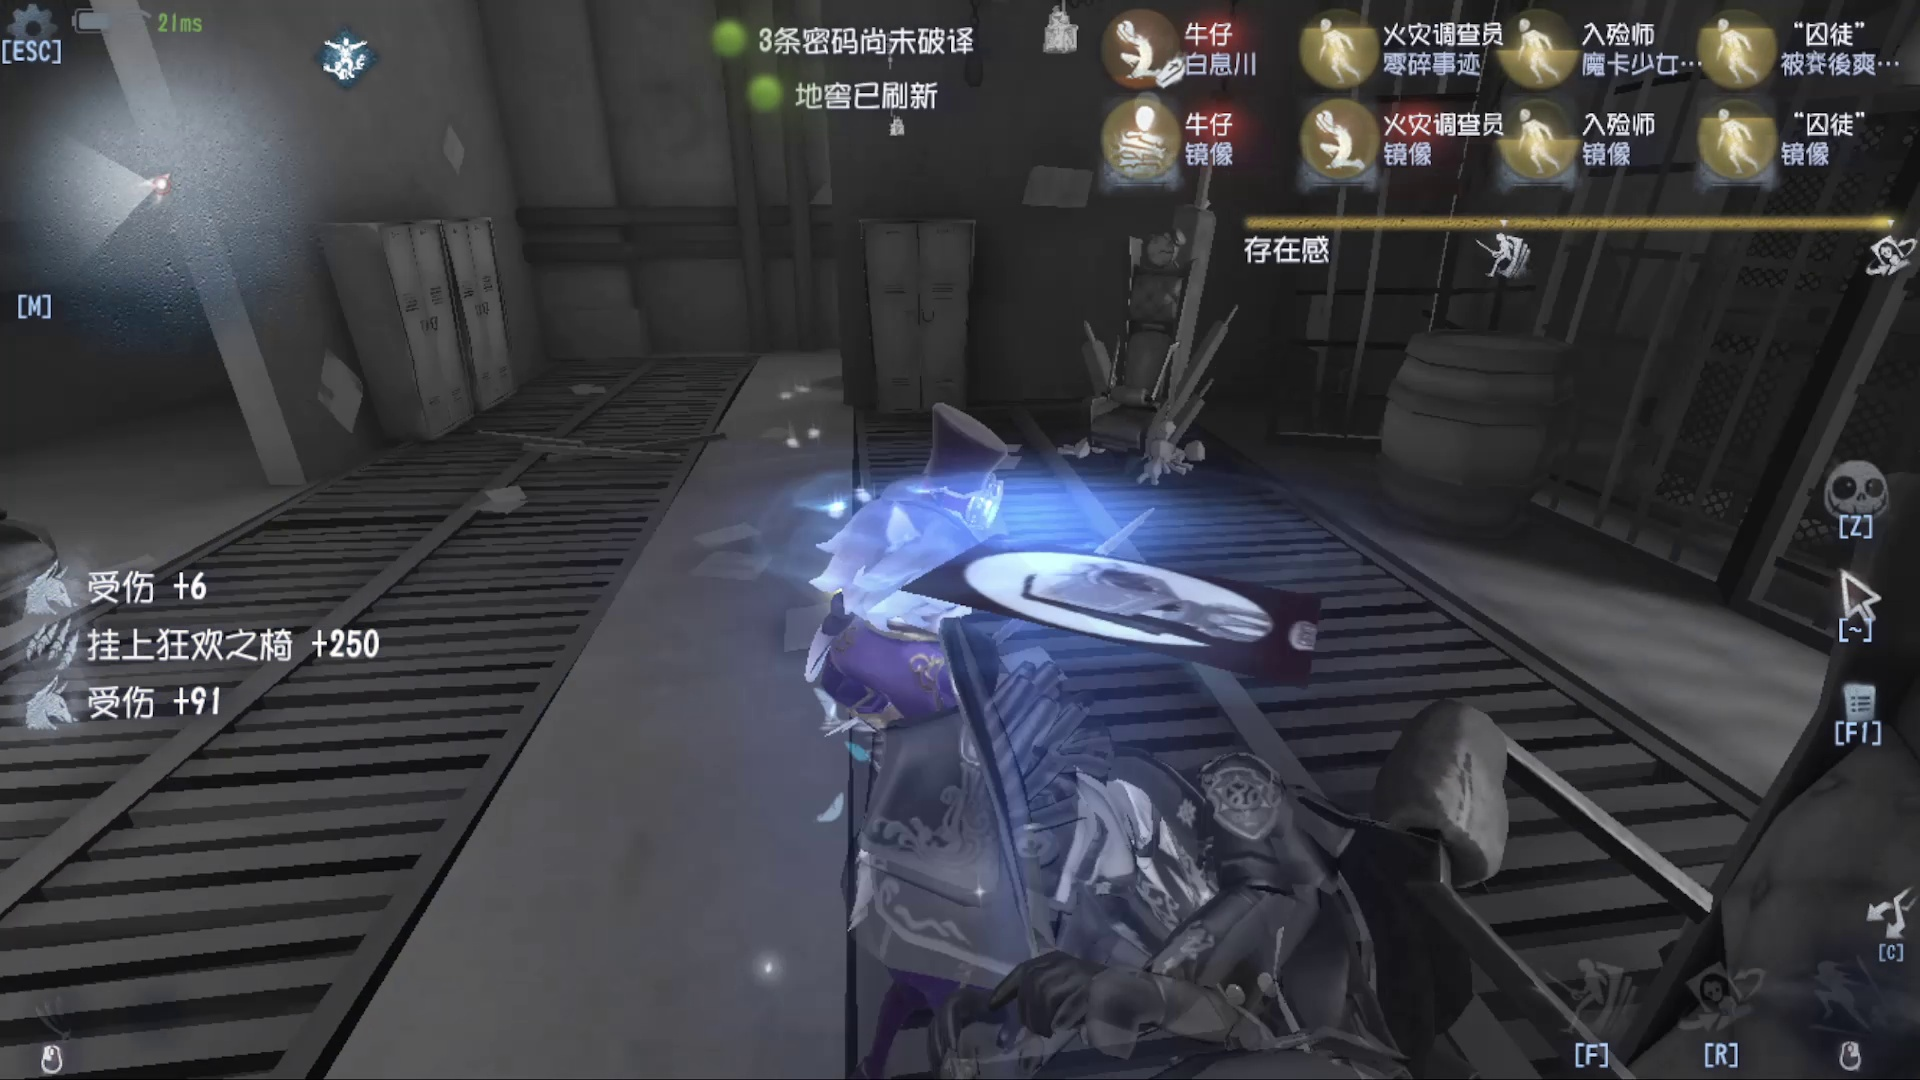狂欢之椅: (1044, 156, 1229, 488)
